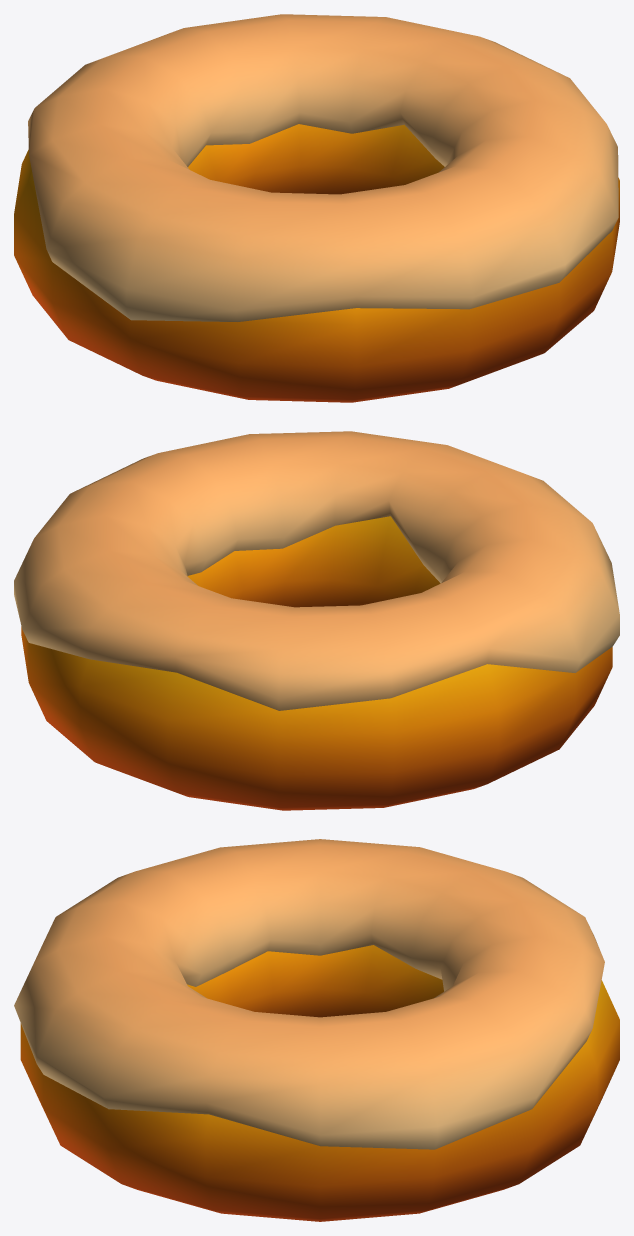
Rendered from donut_003.fbx.
3 views of the same model, one above another, from view 1: azimuth 30°, elevation 25°; view 2: azimuth 150°, elevation 25°; view 3: azimuth 270°, elevation 25° (orthographic). The views are drawn at different scales.
Visible parts, largest first — view 1: donut_003; view 2: donut_003; view 3: donut_003.
Boxes of the visible parts, <box> form: donut_003: <box>14,14,619,402</box>; donut_003: <box>14,431,619,810</box>; donut_003: <box>14,839,619,1221</box>.
Size of the model in its own units: 10.67 by 10.55 by 3.63.
